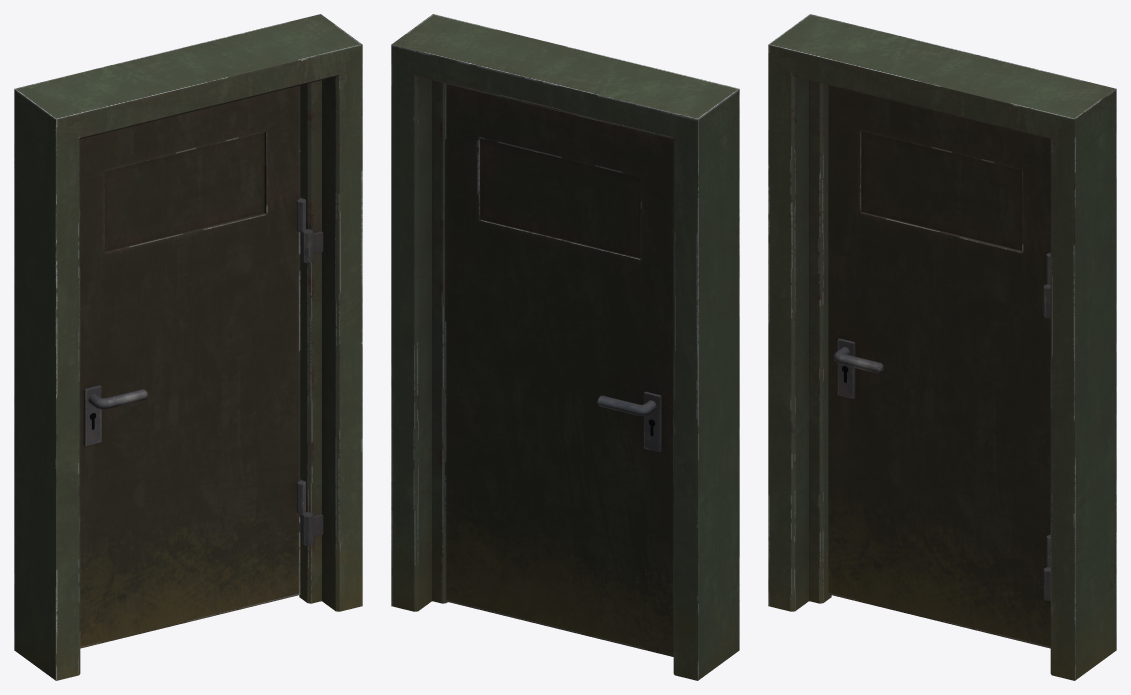
File: Door.fbx
3 views of the same model, side by side, from view 1: azimuth 30°, elevation 25°; view 2: azimuth 150°, elevation 25°; view 3: azimuth 330°, elevation 25° (orthographic).
Parts seen in each view (by area): view 1: door, frame, handle; view 2: door, frame, handle; view 3: door, frame, handle.
Part boxes in pixels (bbox=[...]): door: bbox=[80, 85, 305, 648]; frame: bbox=[14, 14, 362, 680]; handle: bbox=[88, 389, 148, 409]; door: bbox=[444, 83, 673, 656]; frame: bbox=[391, 14, 739, 680]; handle: bbox=[597, 395, 656, 415]; door: bbox=[828, 85, 1050, 648]; frame: bbox=[768, 14, 1116, 680]; handle: bbox=[833, 347, 883, 373].
Bounding box in the file's own units: 127 × 222 × 30.
1 material, 1 textured.
